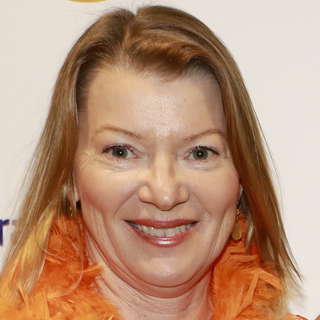eye: (98, 139, 143, 164), (181, 141, 225, 165)
